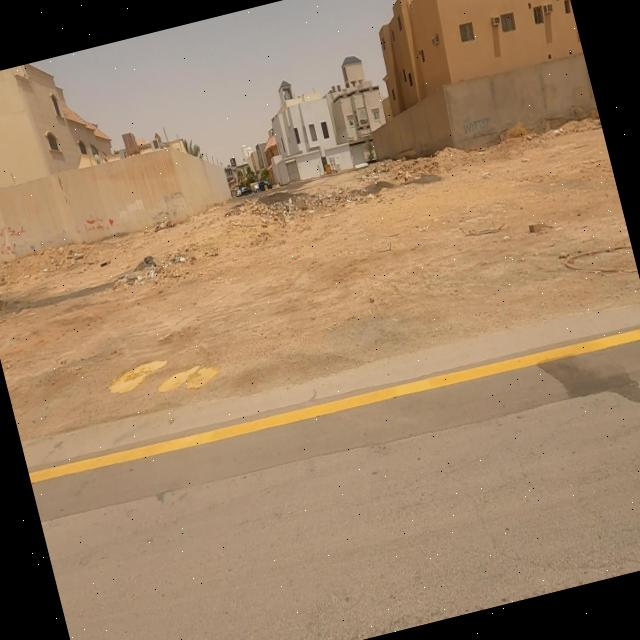Graffiti: (1, 221, 30, 263), (463, 115, 495, 139), (82, 214, 106, 238), (108, 217, 116, 230)
